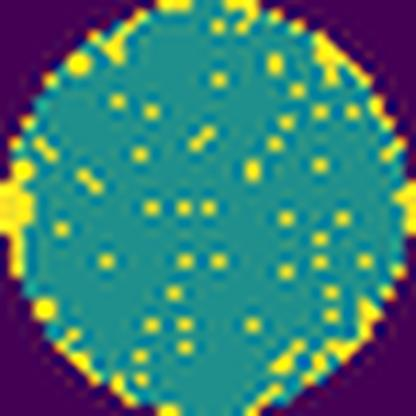Edge-Loc: (0, 150, 45, 284), (320, 293, 387, 366), (389, 181, 416, 239)
